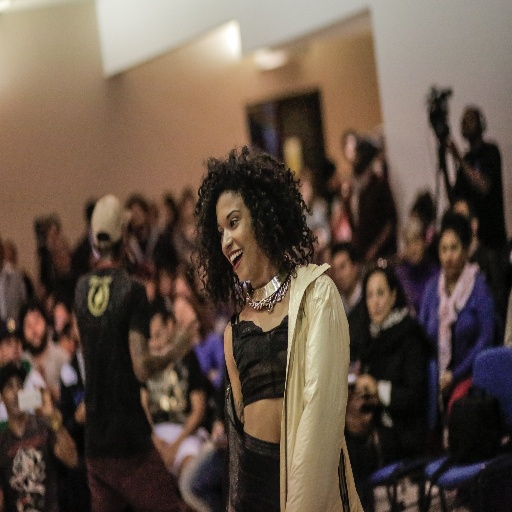hand: (168, 317, 205, 365), (30, 377, 54, 422), (348, 396, 371, 432), (164, 438, 180, 472), (356, 374, 375, 396), (438, 366, 454, 391), (445, 135, 460, 160), (210, 422, 225, 443), (173, 274, 186, 297)
